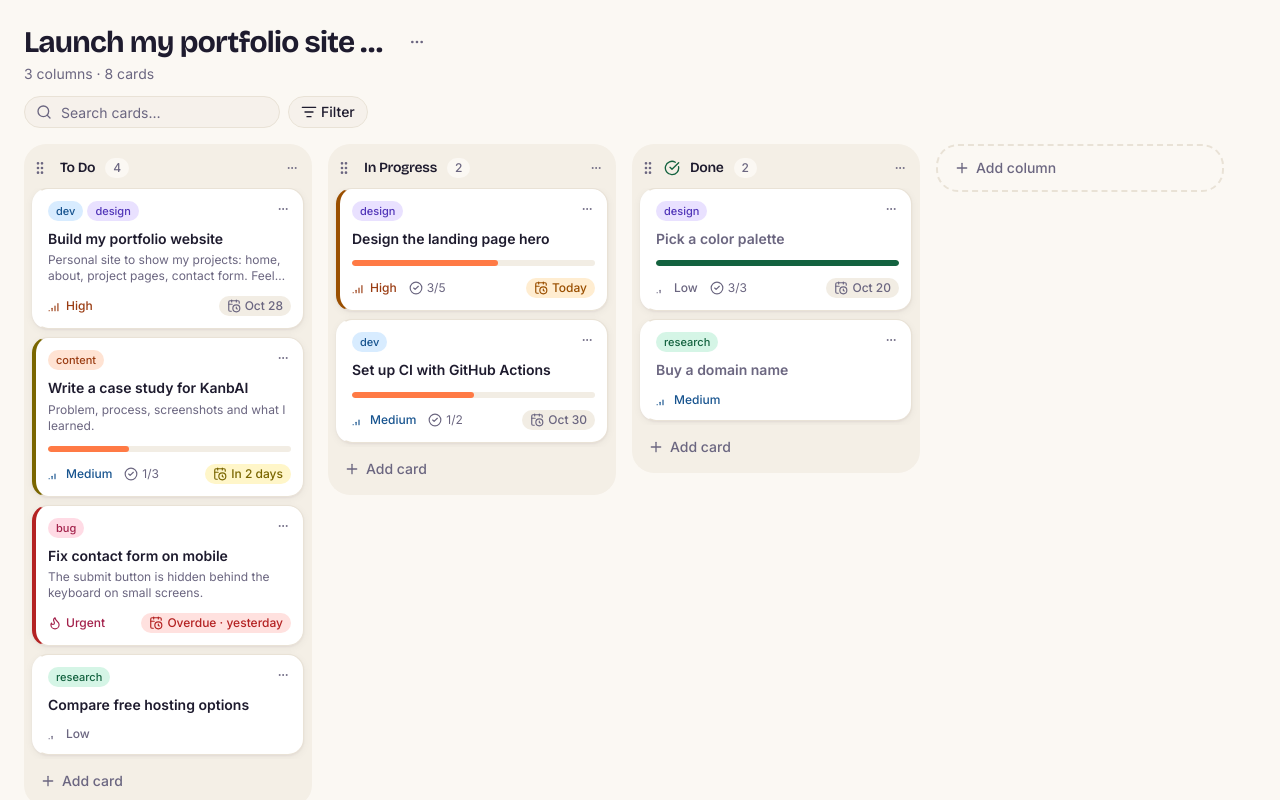
Test case: card detail dialog › saves the description when the dialog is closed with Escape
Step 1. Click the heading "Buy a domain name" → (722, 370), box [656, 361, 788, 378]
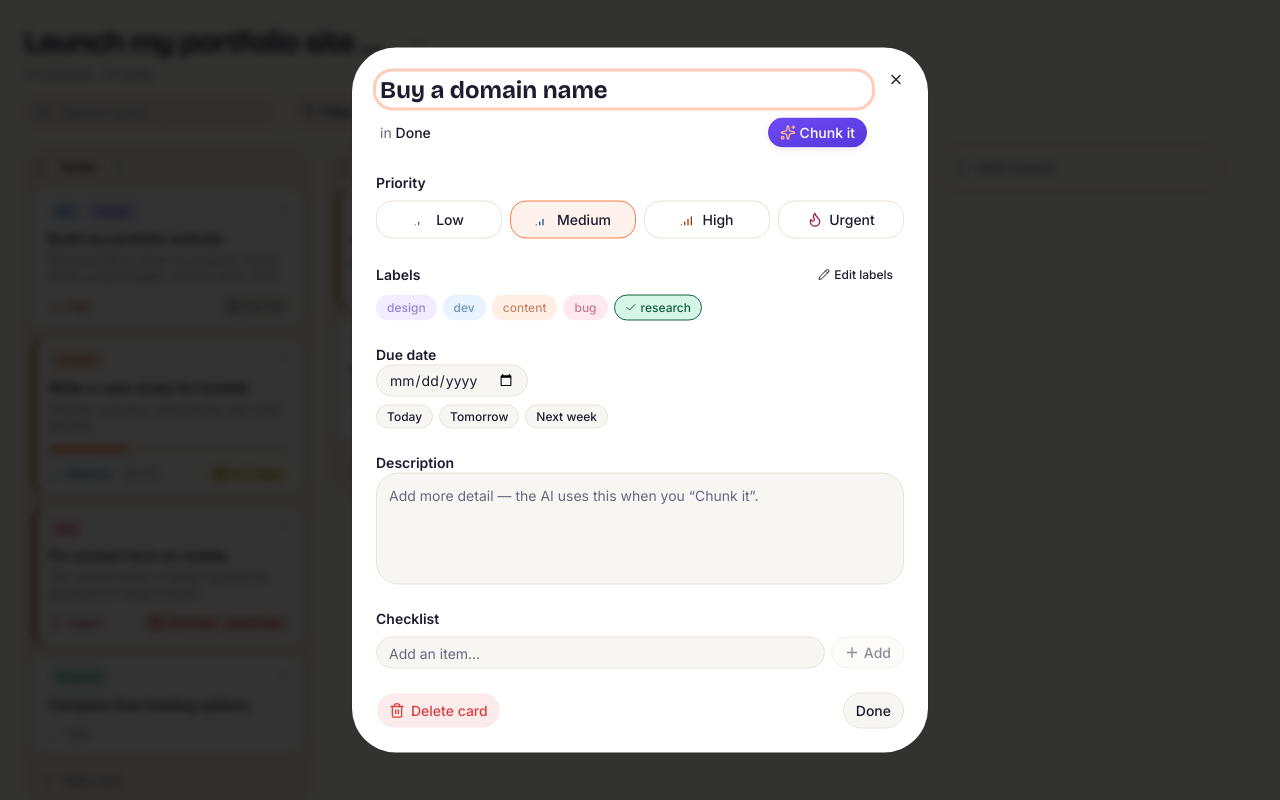
Step 2. Type "kanbai.dev?" into the text box labelled "Description" → (640, 528), box [376, 472, 904, 584]
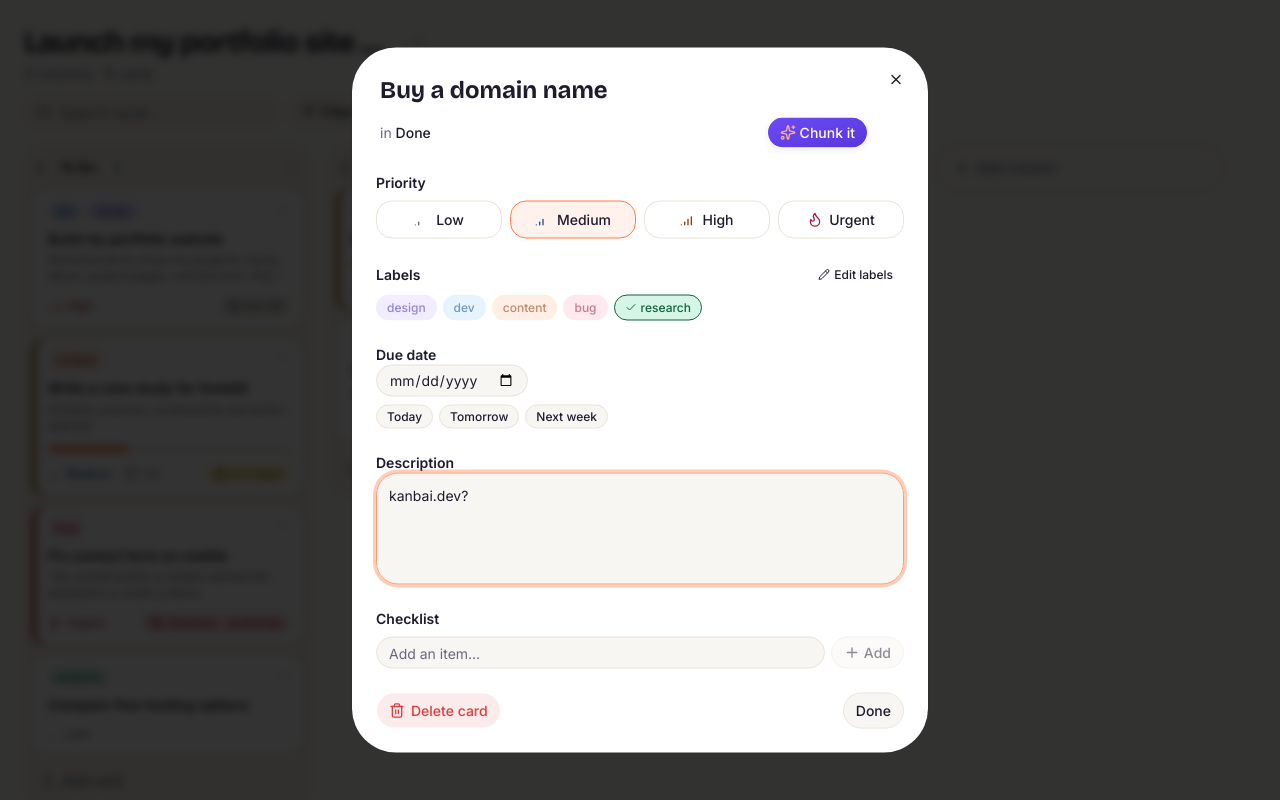
Step 3. Press Escape
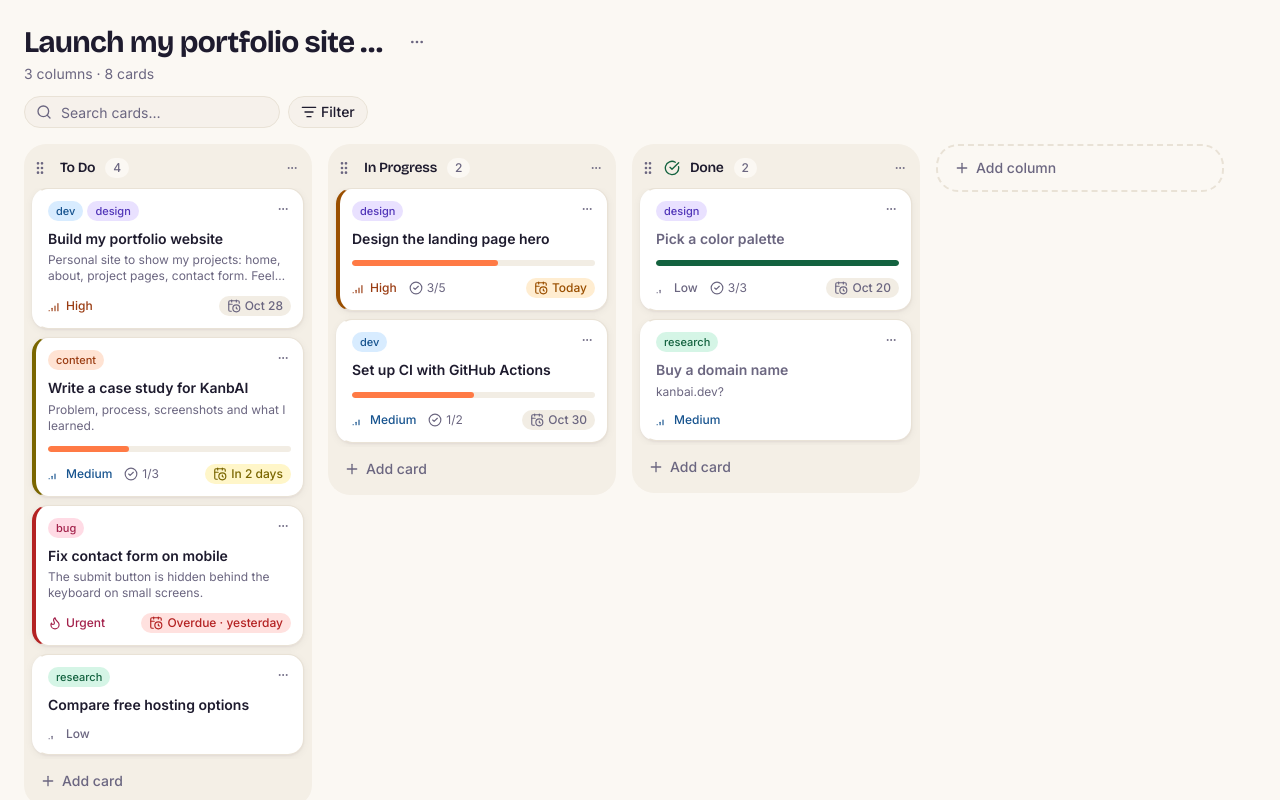
Expected: the dialog is gone
Expected: the text "kanbai.dev?" is shown, [656, 384, 724, 398]
